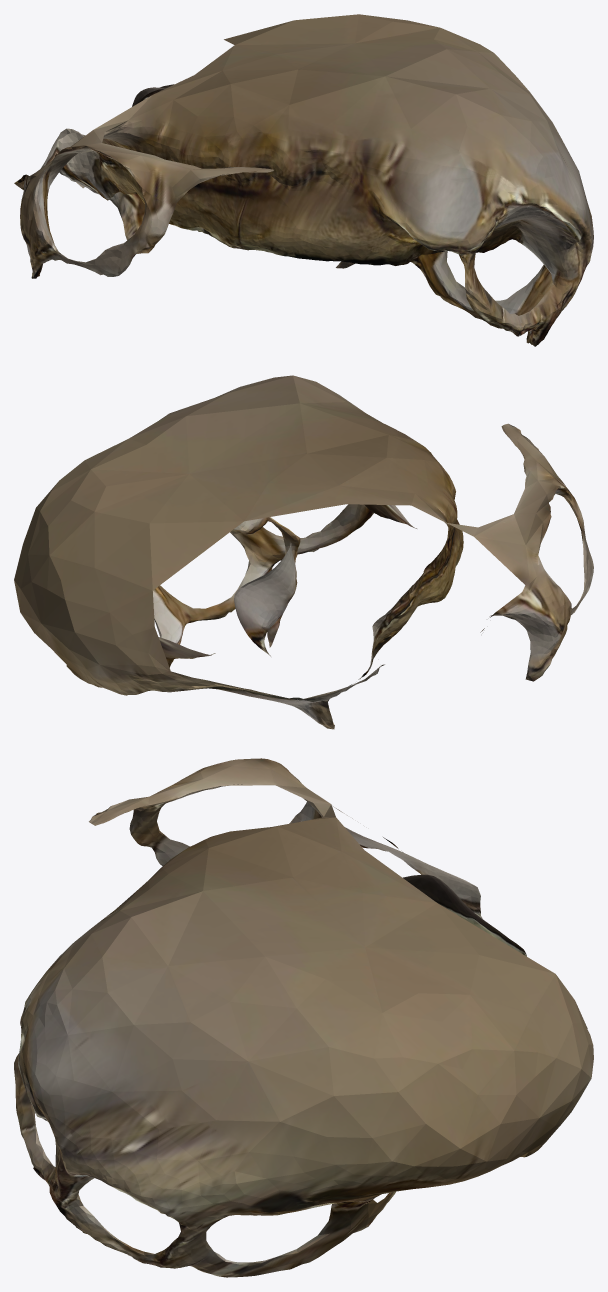
Rendered from Gold Bracelets.glb.
3 renders of one model, top to bottom at view 1: azimuth 30°, elevation 25°; view 2: azimuth 150°, elevation 25°; view 3: azimuth 270°, elevation 25°, orthographic. The views are drawn at different scales.
Size of the model in its own units: 0.426 by 0.2285 by 0.3723.
1 material, 1 textured.
